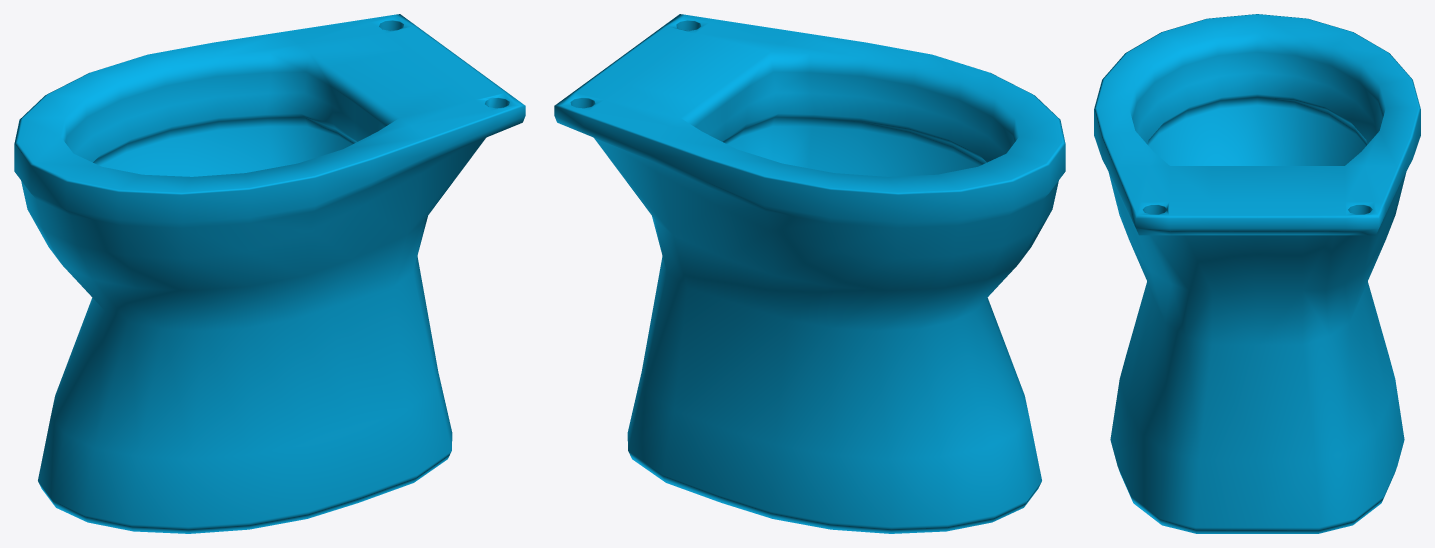
3 renders of one model, left to right at view 1: azimuth 30°, elevation 25°; view 2: azimuth 150°, elevation 25°; view 3: azimuth 270°, elevation 25°, orthographic. The views are drawn at different scales.
Parts seen in each view (by area): view 1: Wc_01_Lod0; view 2: Wc_01_Lod0; view 3: Wc_01_Lod0.
Part boxes in pixels (<box>): Wc_01_Lod0: <box>14,14,525,533</box>; Wc_01_Lod0: <box>554,14,1065,533</box>; Wc_01_Lod0: <box>1094,14,1420,533</box>.
Bounding box in the file's own units: 53.49 × 41.37 × 36.09.
